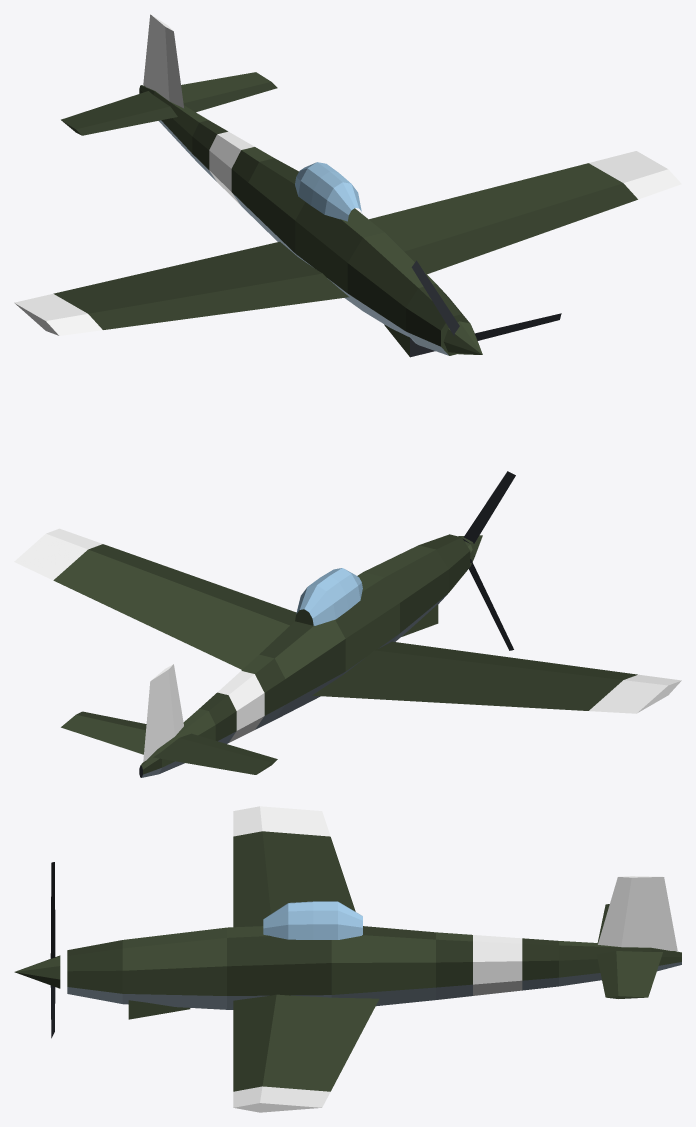
The picture shows the model from 3 angles, top to bottom: view 1: azimuth 30°, elevation 25°; view 2: azimuth 150°, elevation 25°; view 3: azimuth 270°, elevation 25°; orthographic projection. The views are drawn at different scales.
Visible parts, largest first — view 1: body, prop; view 2: body, prop; view 3: body, prop.
Boxes of the visible parts, left/top/right/bottom form: body: left=14, top=14, right=681, bottom=357; prop: left=411, top=260, right=561, bottom=354; body: left=14, top=528, right=681, bottom=777; prop: left=458, top=471, right=515, bottom=650; body: left=67, top=806, right=681, bottom=1112; prop: left=14, top=862, right=60, bottom=1038.
Bounding box in the file's own units: 9.87 × 2.85 × 9.39.
